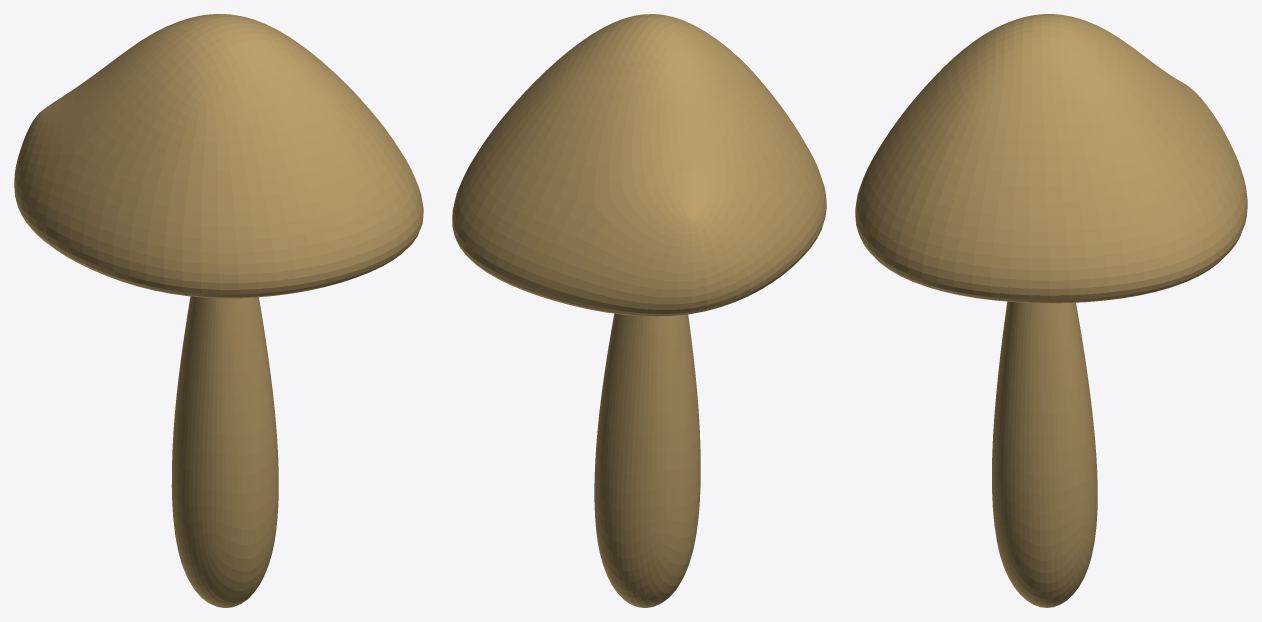
Rendered from RawMushroom.fbx.
3 renders of one model, left to right at view 1: azimuth 30°, elevation 25°; view 2: azimuth 150°, elevation 25°; view 3: azimuth 270°, elevation 25°, orthographic.
Visible parts, largest first — view 1: Cube; view 2: Cube; view 3: Cube.
Part boxes in pixels (bbox=[...]): Cube: bbox=[14, 14, 423, 607]; Cube: bbox=[452, 14, 826, 607]; Cube: bbox=[855, 14, 1247, 607].
Size of the model in its own units: 380 by 656 by 401.
